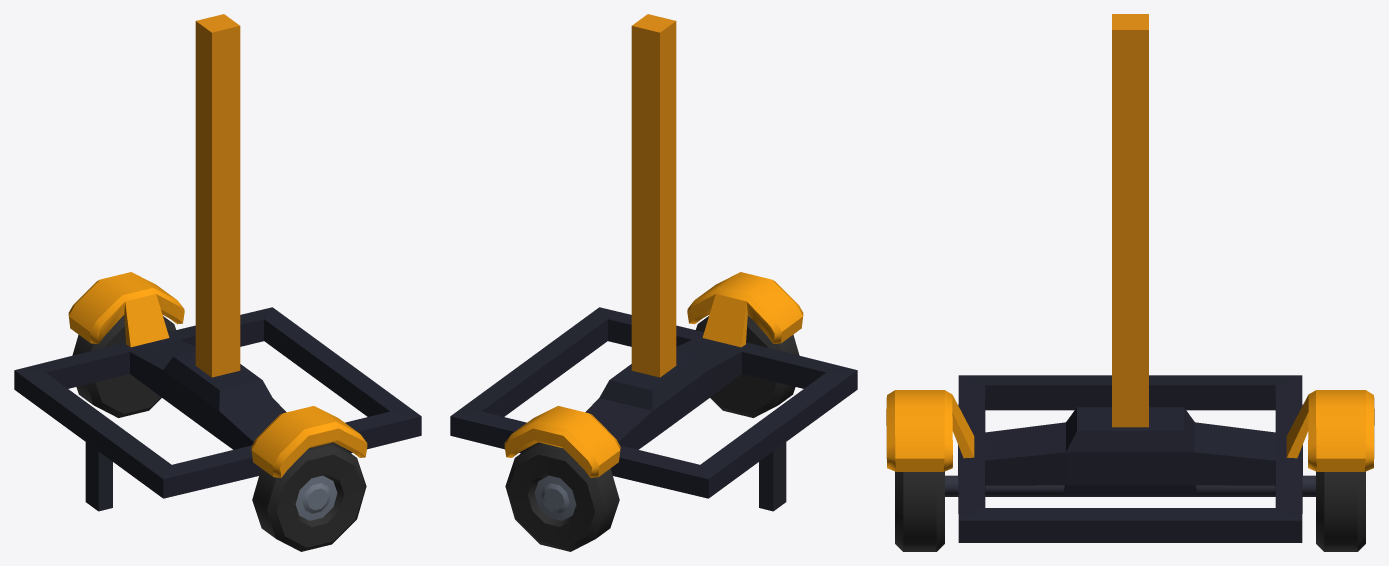
The model's file is SignHolder_1_D.fbx.
3 views of the same model, side by side, from view 1: azimuth 30°, elevation 25°; view 2: azimuth 150°, elevation 25°; view 3: azimuth 270°, elevation 25° (orthographic). The views are drawn at different scales.
Visible parts, largest first — view 1: SignHolder_1_D; view 2: SignHolder_1_D; view 3: SignHolder_1_D.
Boxes of the visible parts, x1,y1,x2,y2 form: SignHolder_1_D: [14, 14, 421, 551]; SignHolder_1_D: [450, 14, 857, 551]; SignHolder_1_D: [886, 14, 1374, 551].
Size of the model in its own units: 76.63 by 128 by 109.
